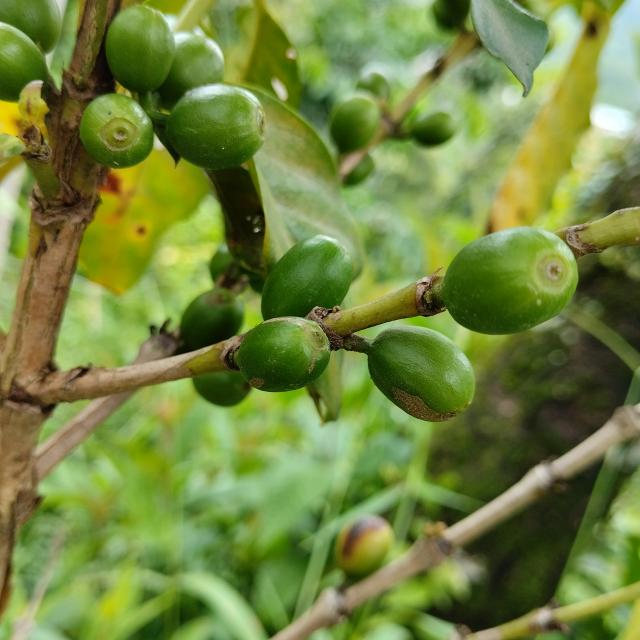green: (443, 226, 579, 334), (368, 326, 475, 422), (166, 83, 265, 170), (261, 235, 353, 320), (237, 317, 331, 392), (105, 4, 175, 93), (79, 93, 153, 168), (158, 31, 224, 109), (0, 21, 48, 101), (0, 0, 61, 52)
